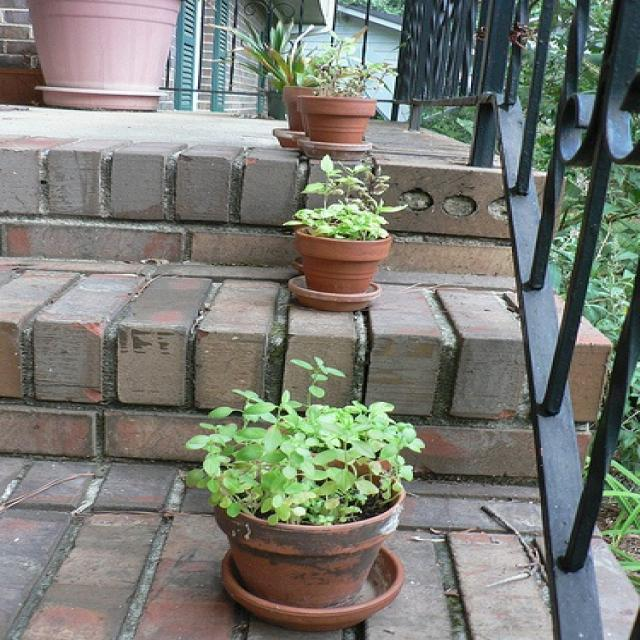pottedplant: (187, 356, 426, 631), (204, 24, 368, 148), (288, 155, 409, 311), (30, 1, 180, 112), (300, 61, 399, 160), (1, 51, 42, 107)
